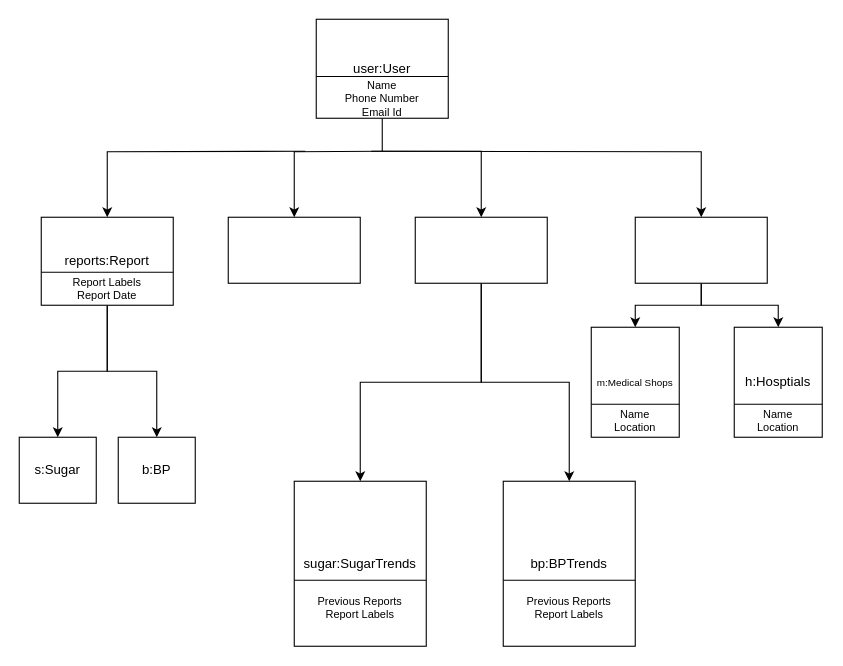
Image size: 843x666. Some labels were removed from this diagram. Each missing label, with the centre of its shape:
e:Emergency: the point at 293,249
faciltity:Facility: the point at 700,249
trends:Trends: the point at 480,249
